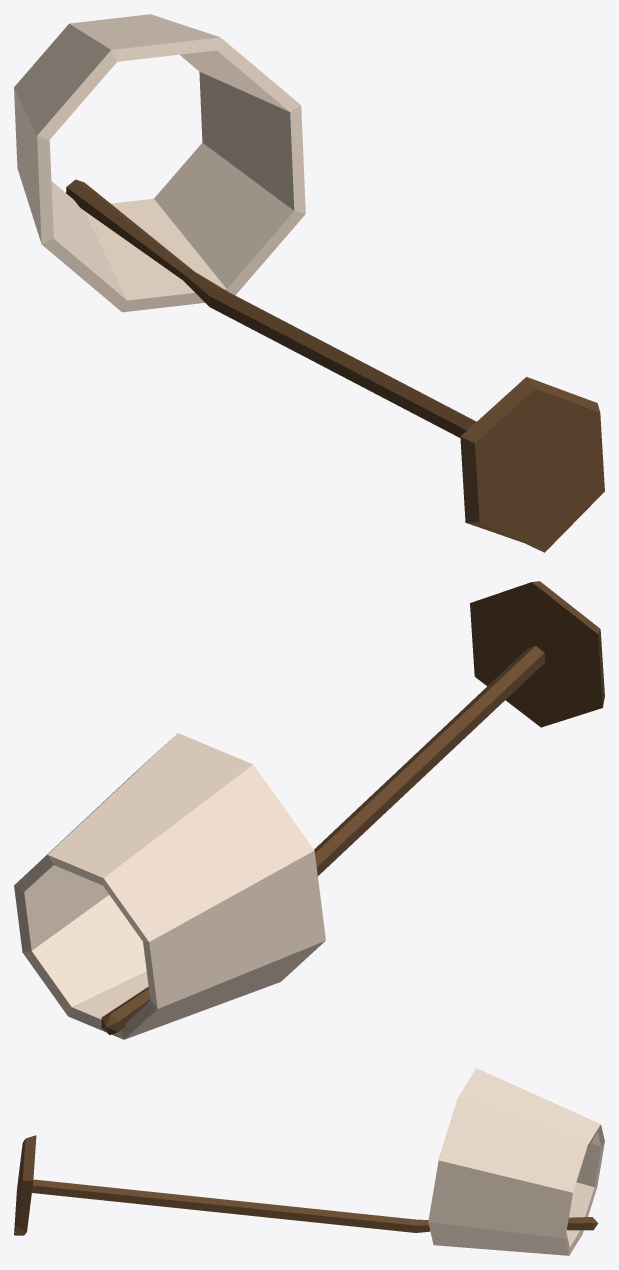
The model's file is apocalypse_lamp-apocalypse.fbx.
3 renders of one model, top to bottom at view 1: azimuth 30°, elevation 25°; view 2: azimuth 150°, elevation 25°; view 3: azimuth 270°, elevation 25°, orthographic. The views are drawn at different scales.
Parts seen in each view (by area): view 1: apocalypse_lamp_apocalypse; view 2: apocalypse_lamp_apocalypse; view 3: apocalypse_lamp_apocalypse.
Boxes of the visible parts, left/top/right/bottom form: apocalypse_lamp_apocalypse: left=14, top=14, right=604, bottom=552; apocalypse_lamp_apocalypse: left=14, top=581, right=604, bottom=1039; apocalypse_lamp_apocalypse: left=14, top=1068, right=604, bottom=1255.
Size of the model in its own units: 60.6 by 56.5 by 200.
